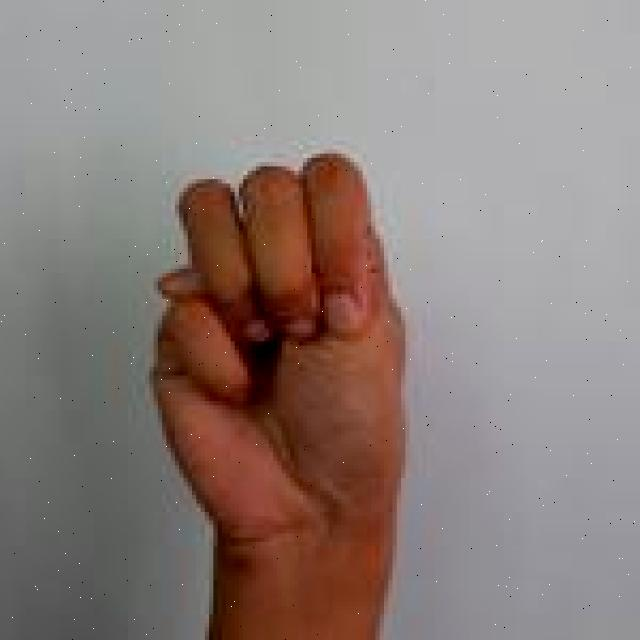M: (149, 147, 413, 640)
